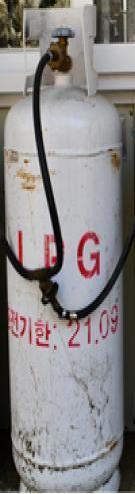cylinder: (1, 1, 135, 494)
